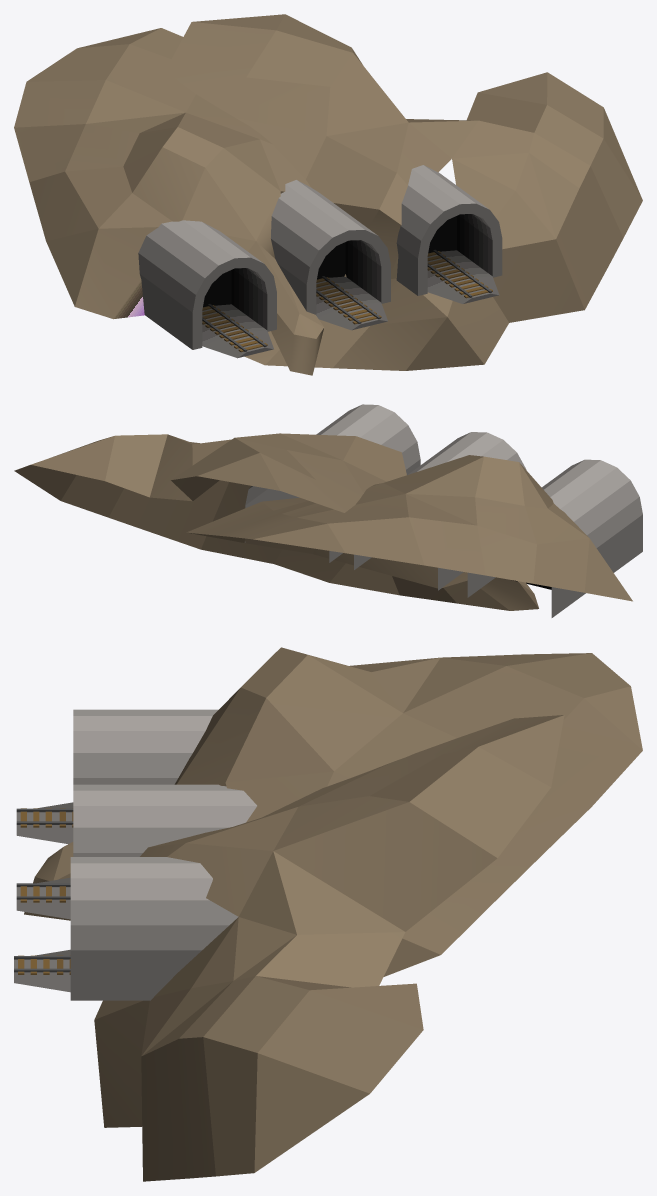
Rendered from ochko.fbx.
3 renders of one model, top to bottom at view 1: azimuth 30°, elevation 25°; view 2: azimuth 150°, elevation 25°; view 3: azimuth 270°, elevation 25°, orthographic. The views are drawn at different scales.
Parts seen in each view (by area): view 1: SM_Env_Hills_02__2_, SM_Env_Track_Tunnel_01, SM_Env_Track_Tunnel_01_1, SM_Env_Track_Tunnel_01_2; view 2: SM_Env_Hills_02__2_, SM_Env_Track_Tunnel_01, SM_Env_Track_Tunnel_01_2, SM_Env_Track_Tunnel_01_1; view 3: SM_Env_Hills_02__2_, SM_Env_Track_Tunnel_01_2, SM_Env_Track_Tunnel_01_1, SM_Env_Track_Tunnel_01.
Part boxes in pixels (box(x1,y1,x2,y2)): SM_Env_Hills_02__2_: box(14, 14, 642, 375); SM_Env_Track_Tunnel_01: box(138, 220, 276, 358); SM_Env_Track_Tunnel_01_1: box(270, 180, 390, 330); SM_Env_Track_Tunnel_01_2: box(396, 165, 502, 303); SM_Env_Hills_02__2_: box(14, 433, 632, 610); SM_Env_Track_Tunnel_01: box(467, 459, 642, 617); SM_Env_Track_Tunnel_01_2: box(245, 404, 420, 562); SM_Env_Track_Tunnel_01_1: box(354, 432, 526, 590); SM_Env_Hills_02__2_: box(24, 647, 642, 1181); SM_Env_Track_Tunnel_01_2: box(14, 857, 238, 1000); SM_Env_Track_Tunnel_01_1: box(16, 784, 256, 919); SM_Env_Track_Tunnel_01: box(16, 709, 218, 844).
Size of the model in its own units: 7825 by 3240 by 5503.
